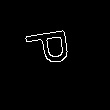P_E: (24, 30, 80, 74)
